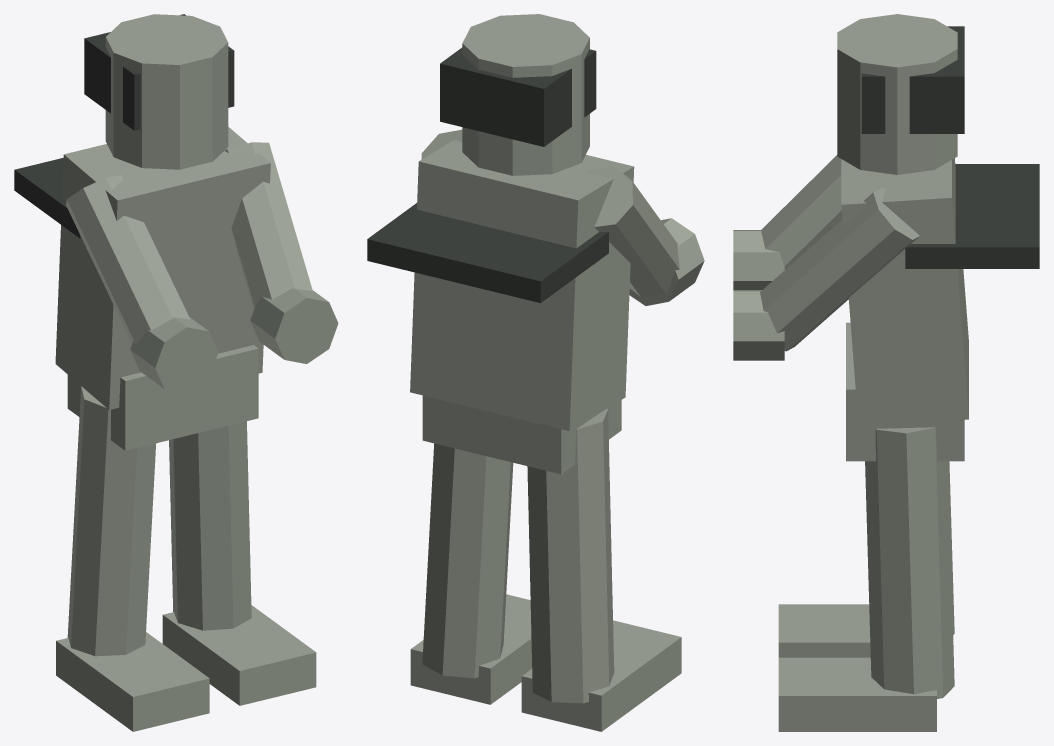
Rendered from Bastion_MT12_GunnerReference.obj.
3 views of the same model, side by side, from view 1: azimuth 30°, elevation 25°; view 2: azimuth 150°, elevation 25°; view 3: azimuth 270°, elevation 25° (orthographic). The views are drawn at different scales.
Parts seen in each view (by area): view 1: Bastion_MT12_GunnerReference; view 2: Bastion_MT12_GunnerReference; view 3: Bastion_MT12_GunnerReference.
Part boxes in pixels (x1,y1,x2,y2): Bastion_MT12_GunnerReference: (14,14,338,731); Bastion_MT12_GunnerReference: (367,14,704,731); Bastion_MT12_GunnerReference: (733,14,1039,731).
Bounding box in the file's own units: 0.6093 × 1.8 × 0.775.
1 material, 1 textured.
